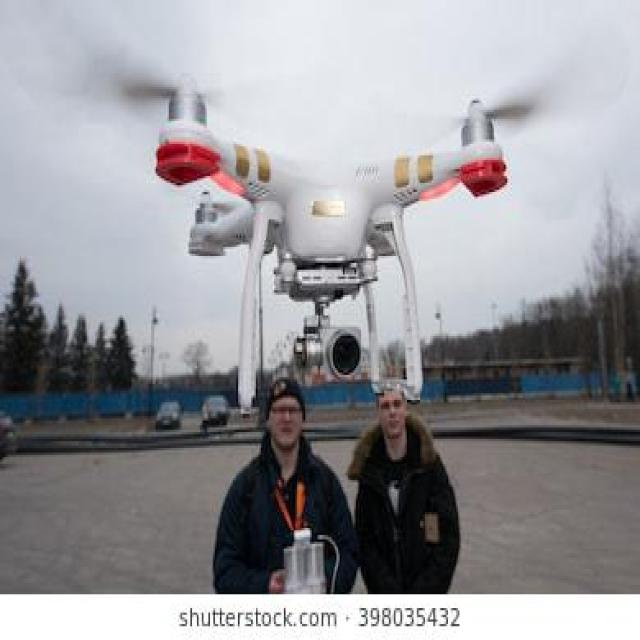drone: (0, 0, 640, 423)
